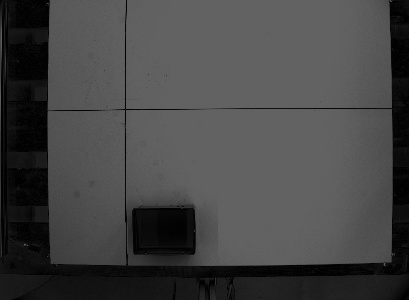klts: (129, 202, 200, 257)
